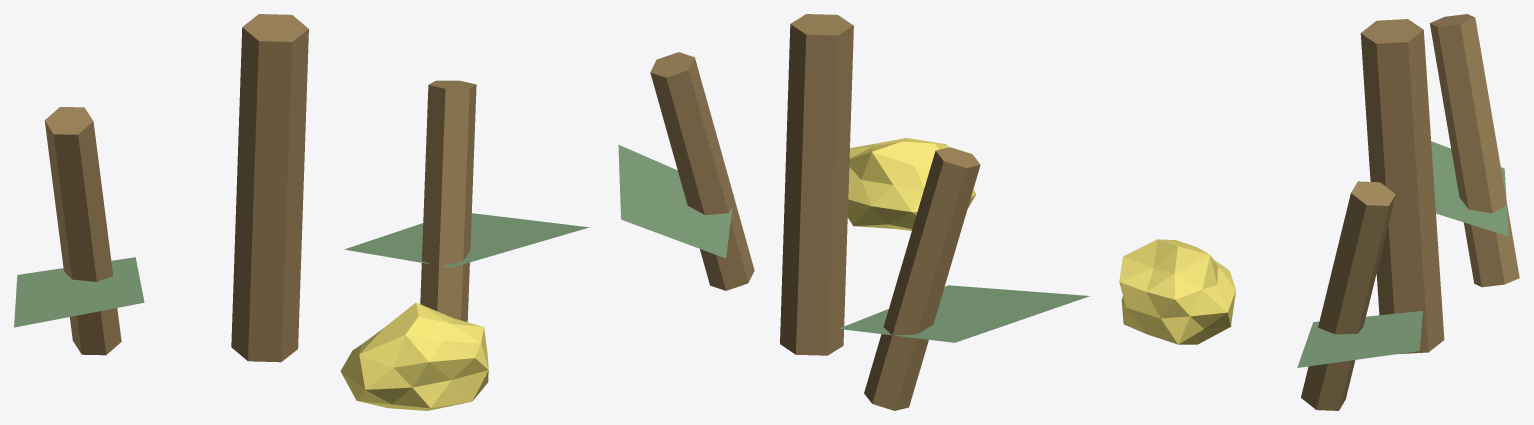
The model's file is t7_fiber_depleted.glb.
3 renders of one model, left to right at view 1: azimuth 30°, elevation 25°; view 2: azimuth 150°, elevation 25°; view 3: azimuth 270°, elevation 25°, orthographic. The views are drawn at different scales.
Parts seen in each view (by area): view 1: CutCenterStem, DroppedCottonTuft, CutRightStem, CutLeftStem, WiltedLeafLeft, WiltedLeafRight; view 2: CutCenterStem, CutLeftStem, CutRightStem, DroppedCottonTuft, WiltedLeafRight, WiltedLeafLeft; view 3: CutCenterStem, CutLeftStem, DroppedCottonTuft, CutRightStem, WiltedLeafRight, WiltedLeafLeft.
Boxes of the visible parts, left/top/right/bottom form: CutCenterStem: left=231, top=14, right=308, bottom=362; DroppedCottonTuft: left=340, top=302, right=488, bottom=410; CutRightStem: left=420, top=80, right=476, bottom=322; CutLeftStem: left=44, top=107, right=121, bottom=355; WiltedLeafLeft: left=14, top=257, right=144, bottom=327; WiltedLeafRight: left=344, top=213, right=589, bottom=267; CutCenterStem: left=780, top=14, right=853, bottom=355; CutLeftStem: left=864, top=147, right=980, bottom=410; CutRightStem: left=650, top=52, right=754, bottom=290; DroppedCottonTuft: left=847, top=138, right=976, bottom=230; WiltedLeafRight: left=618, top=144, right=733, bottom=258; WiltedLeafLeft: left=838, top=285, right=1089, bottom=342; CutCenterStem: left=1360, top=19, right=1444, bottom=354; CutLeftStem: left=1429, top=14, right=1519, bottom=287; DroppedCottonTuft: left=1119, top=239, right=1235, bottom=344; CutRightStem: left=1301, top=181, right=1395, bottom=410; WiltedLeafRight: left=1297, top=311, right=1422, bottom=367; WiltedLeafLeft: left=1431, top=141, right=1508, bottom=236.
Bounding box in the file's own units: 0.6481 × 0.3837 × 0.4436.
